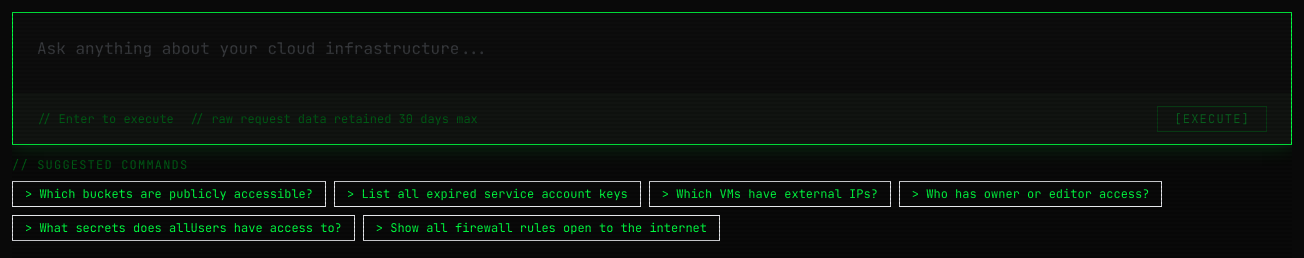
Test: QueryBox › handles input and disables button when empty
Expected: the button "[EXECUTE]" is disabled, [1157,106,1267,132]
Type "test query" into the text box with placeholder "Ask anything about your cloud infrastructure...". click: {"x": 652, "y": 53}
box: [13,13,1291,93]
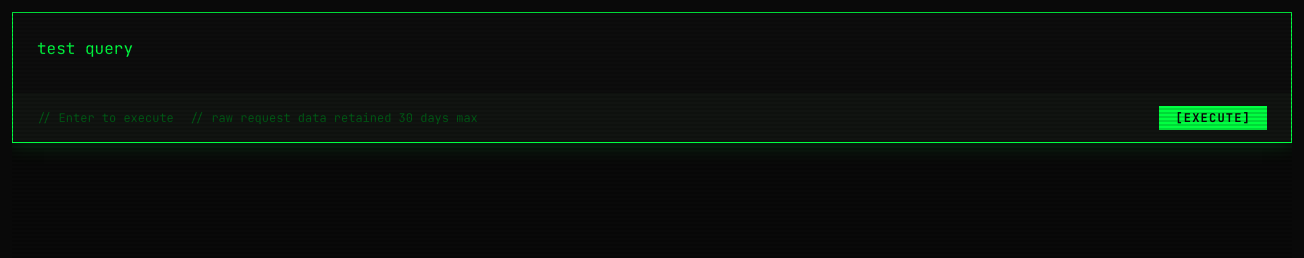
Expected: the button "[EXECUTE]" is enabled, [1159,106,1267,130]
